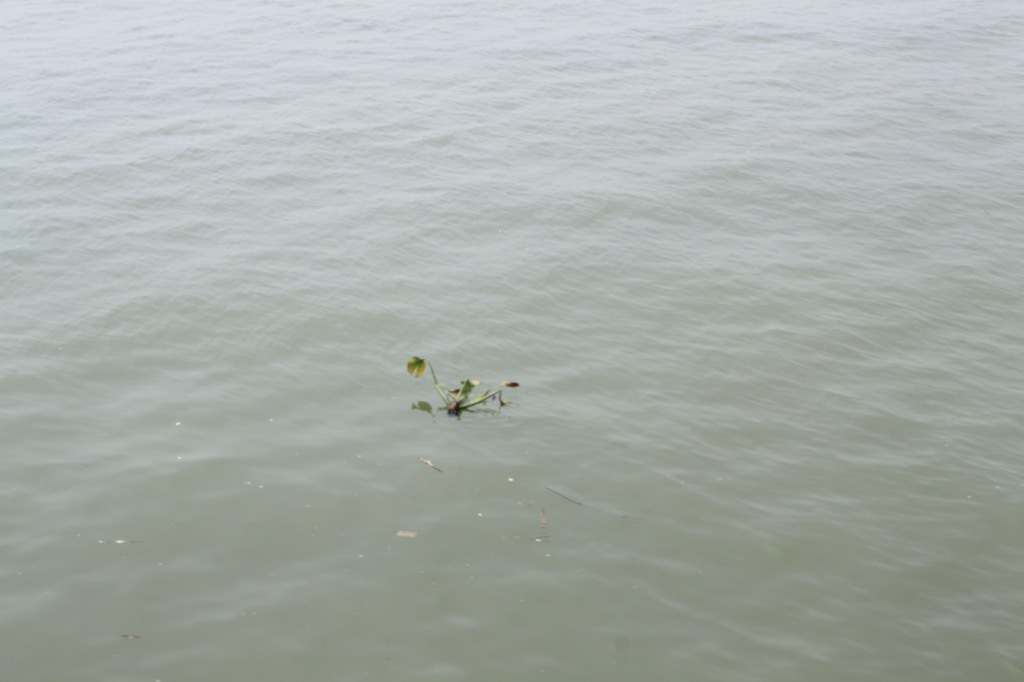organic: (396, 348, 530, 434), (542, 480, 588, 510), (414, 452, 448, 478), (535, 502, 557, 537)
plastic: (393, 525, 423, 544), (353, 546, 369, 566), (503, 472, 516, 484), (173, 419, 183, 429), (175, 452, 184, 462)
